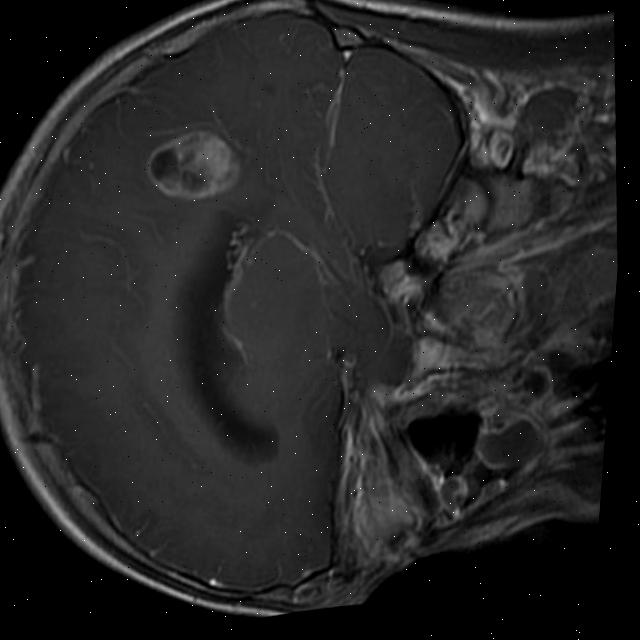Glioma: (139, 121, 250, 206)
